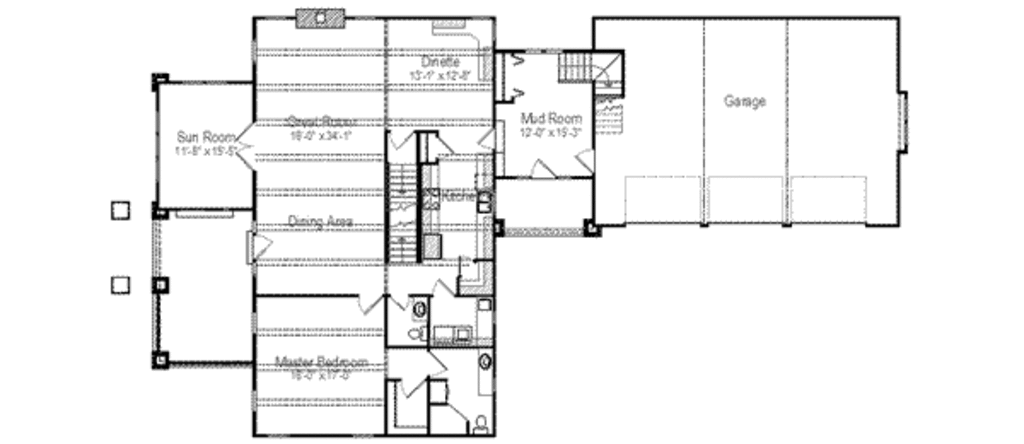door: (231, 119, 278, 178), (468, 117, 525, 160), (240, 225, 291, 272), (346, 281, 392, 326), (525, 151, 561, 184), (570, 142, 601, 177), (386, 372, 429, 397), (424, 347, 451, 374), (427, 277, 460, 299), (391, 288, 410, 312)
large_sink: (469, 407, 491, 436)
small_sink: (472, 350, 501, 392)
stairs: (375, 136, 429, 266), (552, 46, 626, 129)
